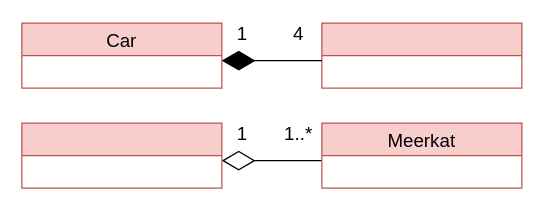
Some shapes in this 544 by 215 pixel diagram are drawn without their labels. Each missing label, with the centre of its shape:
Mob: point 121,155
Wheels: point 421,55
